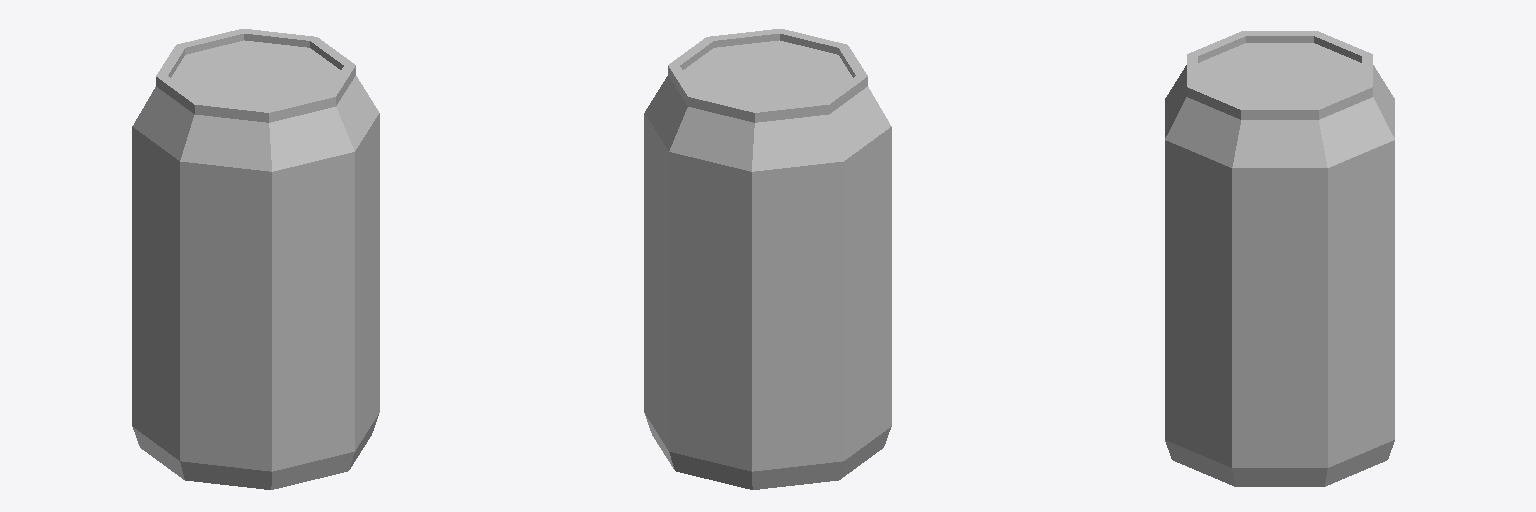
The model's file is soda_can.obj.
The picture shows the model from 3 angles: view 1: azimuth 30°, elevation 25°; view 2: azimuth 150°, elevation 25°; view 3: azimuth 270°, elevation 25°; orthographic projection.
Visible parts, largest first — view 1: Soda_Can; view 2: Soda_Can; view 3: Soda_Can.
Boxes of the visible parts, <box> form: Soda_Can: <box>132,29,379,489</box>; Soda_Can: <box>644,29,891,489</box>; Soda_Can: <box>1165,31,1394,486</box>.
Bounding box in the file's own units: 0.0764 × 0.1355 × 0.0764.